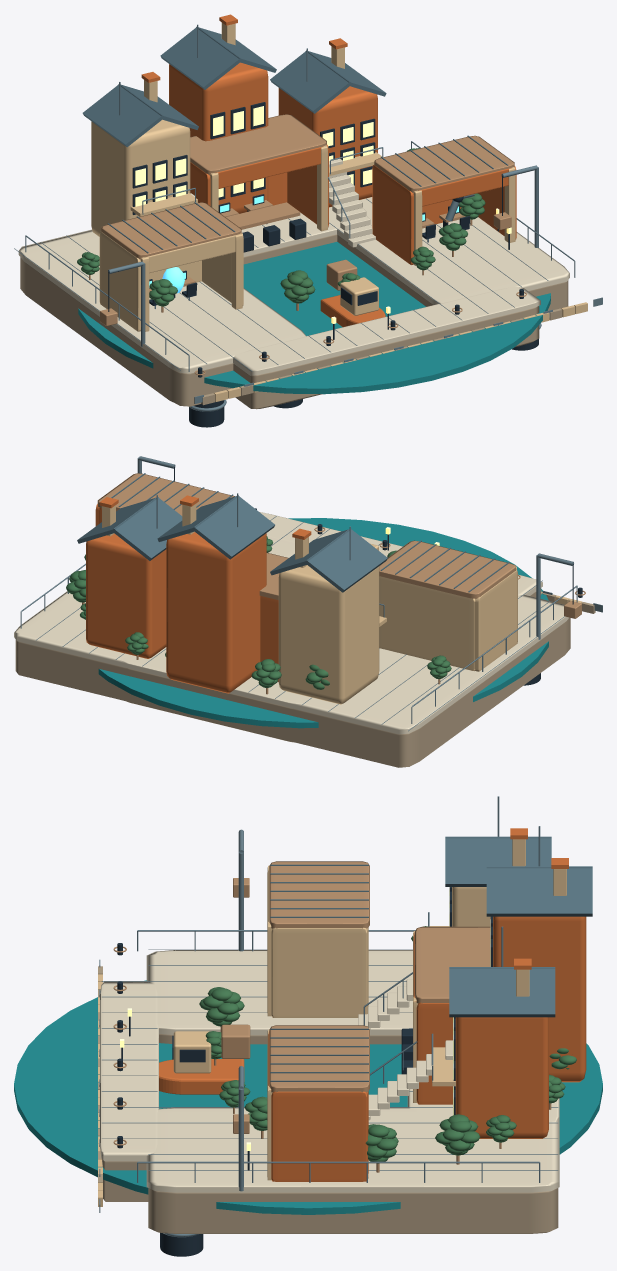
Rendered from chongzhen.glb.
3 renders of one model, top to bottom at view 1: azimuth 30°, elevation 25°; view 2: azimuth 150°, elevation 25°; view 3: azimuth 270°, elevation 25°, orthographic. The views are drawn at different scales.
Visible parts, largest first — view 1: ivory, terracotta, plaster, harbor_water, wood, limestone, slate_roof, graphite, steel, foliage, warm_lamps, boat_cabin (+3 smaller); view 2: terracotta, plaster, ivory, limestone, slate_roof, wood, harbor_water, steel, foliage; view 3: ivory, terracotta, harbor_water, wood, limestone, slate_roof, plaster, steel, foliage, graphite, boat_hull, boat_cabin (+1 smaller).
Part boxes in pixels (<box>): ivory: <box>18,158,569,375</box>; terracotta: <box>141,14,516,264</box>; plaster: <box>91,22,587,401</box>; harbor_water: <box>78,242,550,394</box>; wood: <box>89,114,526,375</box>; limestone: <box>20,234,568,409</box>; slate_roof: <box>82,26,508,253</box>; graphite: <box>108,102,538,427</box>; steel: <box>14,24,602,411</box>; foliage: <box>77,148,485,306</box>; warm_lamps: <box>135,106,511,323</box>; boat_cabin: <box>340,277,378,315</box>; terracotta: <box>86,495,311,693</box>; plaster: <box>102,504,582,704</box>; ivory: <box>14,512,568,734</box>; limestone: <box>15,588,595,767</box>; slate_roof: <box>77,473,509,592</box>; wood: <box>82,473,585,694</box>; harbor_water: <box>98,518,548,728</box>; steel: <box>20,456,602,731</box>; foliage: <box>66,536,451,689</box>; ivory: <box>100,950,559,1192</box>; terracotta: <box>268,828,586,1181</box>; harbor_water: <box>14,980,602,1214</box>; wood: <box>113,861,551,1172</box>; limestone: <box>98,966,558,1233</box>; slate_roof: <box>270,836,592,1081</box>; plaster: <box>98,839,566,1206</box>; steel: <box>99,796,558,1237</box>; foliage: <box>199,926,576,1163</box>; graphite: <box>117,887,492,1256</box>; boat_hull: <box>159,1059,244,1094</box>; boat_cabin: <box>173,1031,211,1073</box>.
Size of the model in its own units: 16.92 by 9.3 by 15.8.
